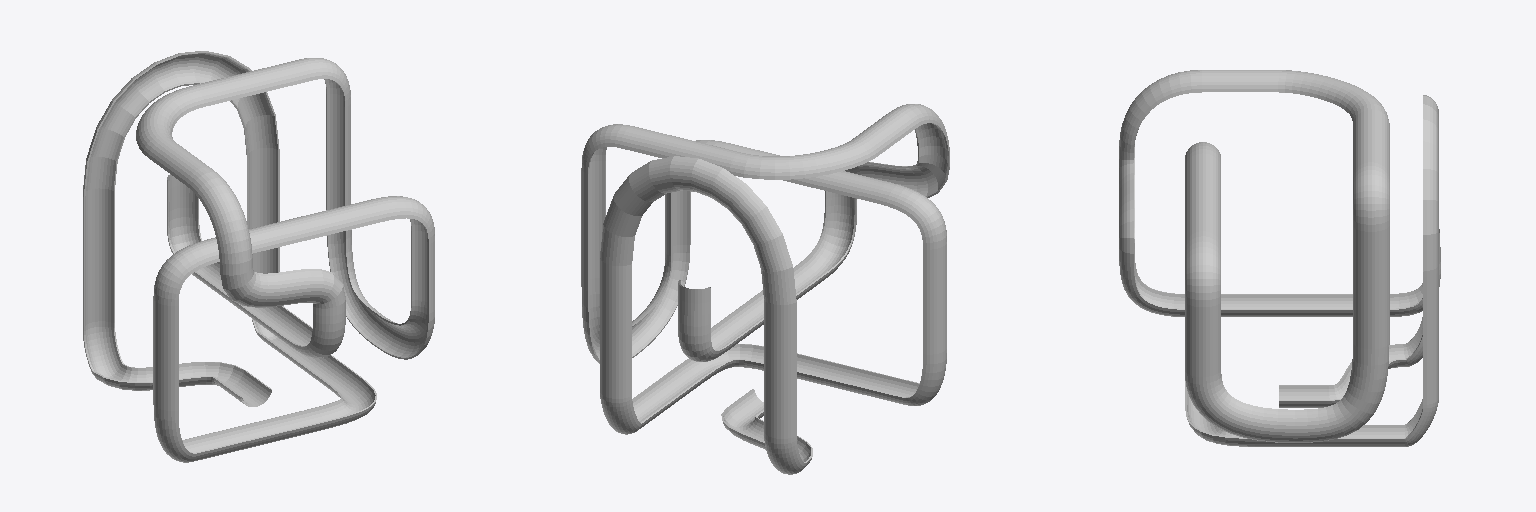
The model's file is path_v3.obj.
3 renders of one model, left to right at view 1: azimuth 30°, elevation 25°; view 2: azimuth 150°, elevation 25°; view 3: azimuth 270°, elevation 25°, orthographic.
Parts seen in each view (by area): view 1: BezierCurve.001_Mesh; view 2: BezierCurve.001_Mesh; view 3: BezierCurve.001_Mesh.
Boxes of the visible parts, x1=… form: BezierCurve.001_Mesh: x1=83, y1=51, x2=434, y2=462; BezierCurve.001_Mesh: x1=581, y1=104, x2=949, y2=474; BezierCurve.001_Mesh: x1=1119, y1=70, x2=1440, y2=446.
Size of the model in its own units: 2.09 by 2.17 by 2.1.